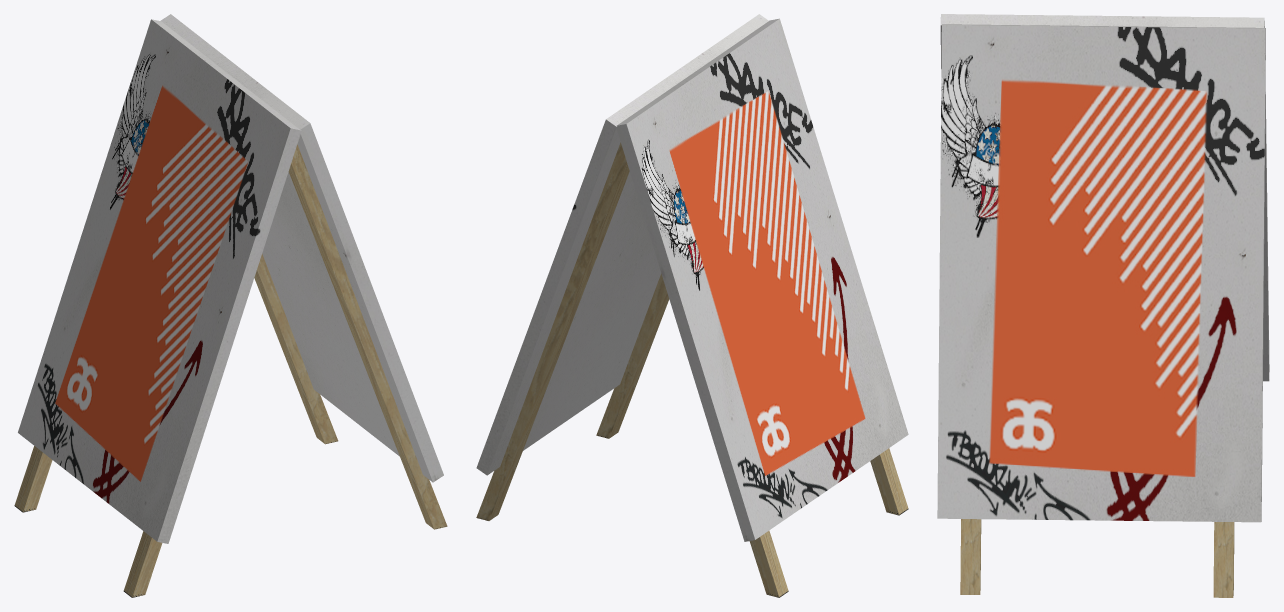
Rendered from cartel3.fbx.
The picture shows the model from 3 angles, left to right: view 1: azimuth 30°, elevation 25°; view 2: azimuth 150°, elevation 25°; view 3: azimuth 270°, elevation 25°; orthographic projection. The views are drawn at different scales.
Visible parts, largest first — view 1: Cartelon; view 2: Cartelon; view 3: Cartelon.
Part boxes in pixels (x1,y1,x2,y2): Cartelon: (14,14,447,597); Cartelon: (476,14,908,597); Cartelon: (937,14,1269,597).
Size of the model in its own units: 65.06 by 87.8 by 53.72.
1 material, 1 textured.
